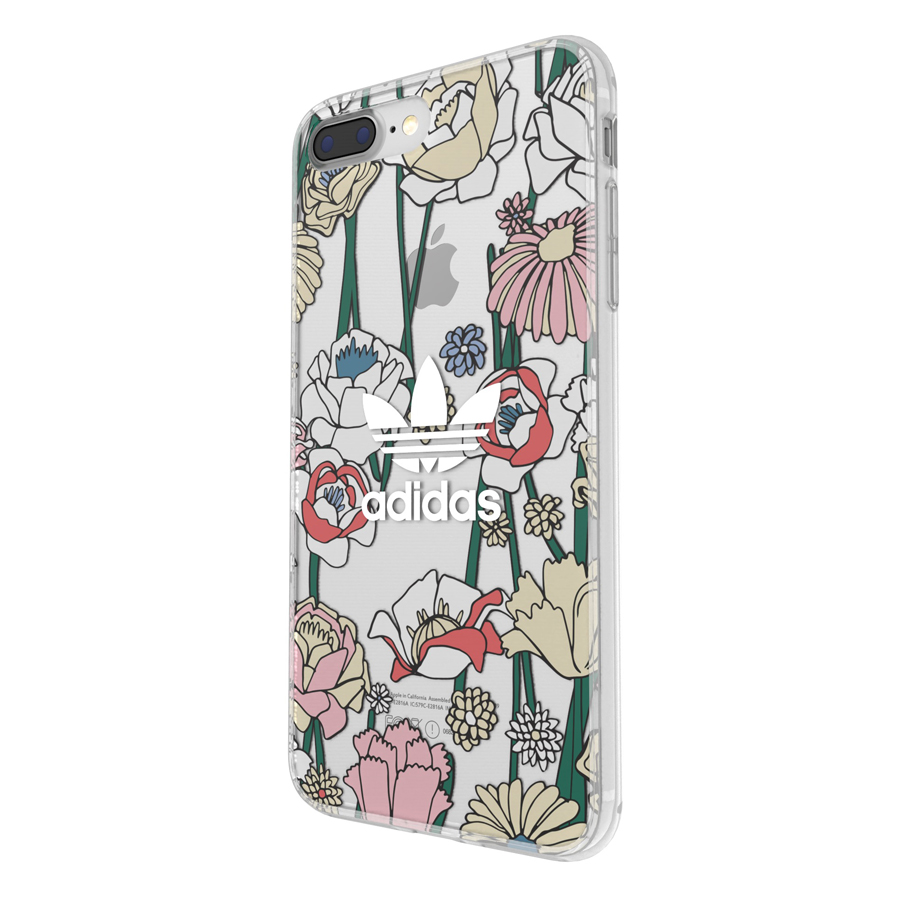Adidas: (357, 350, 511, 527)
